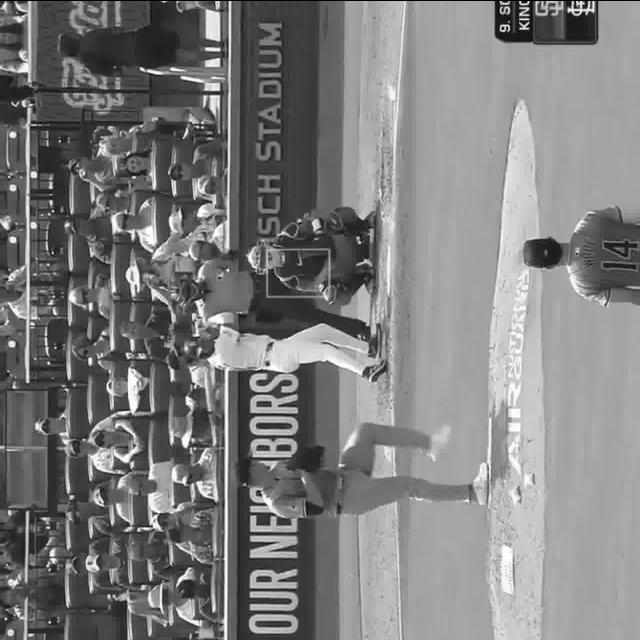base: (386, 240, 392, 294)
baseball_glove: (302, 237, 336, 277), (282, 444, 322, 471)
bat: (199, 357, 217, 412)
shoe: (428, 420, 454, 460), (474, 457, 494, 505), (368, 319, 385, 361), (366, 360, 391, 380), (362, 262, 373, 292), (365, 210, 375, 238)
